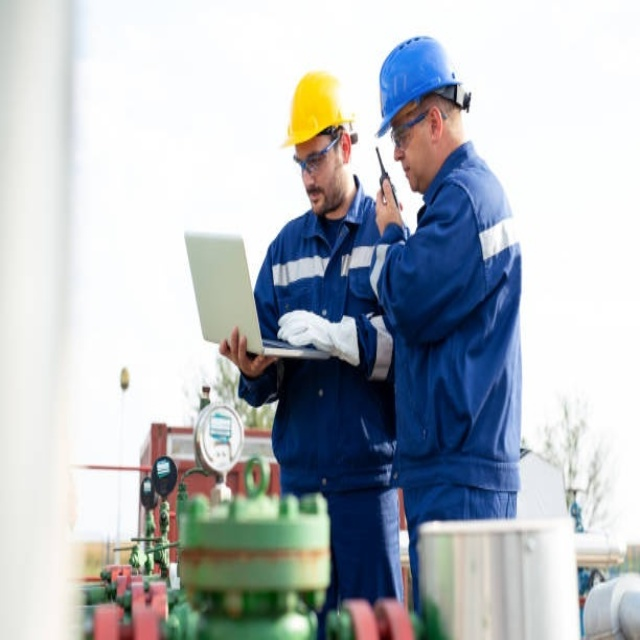Gafas: (293, 135, 341, 177), (389, 108, 433, 152)
Guantes: (273, 300, 365, 372)
Sin_guantes: (220, 323, 280, 379), (375, 173, 405, 232)
Sin_mascara: (399, 157, 421, 190), (304, 185, 324, 216)
